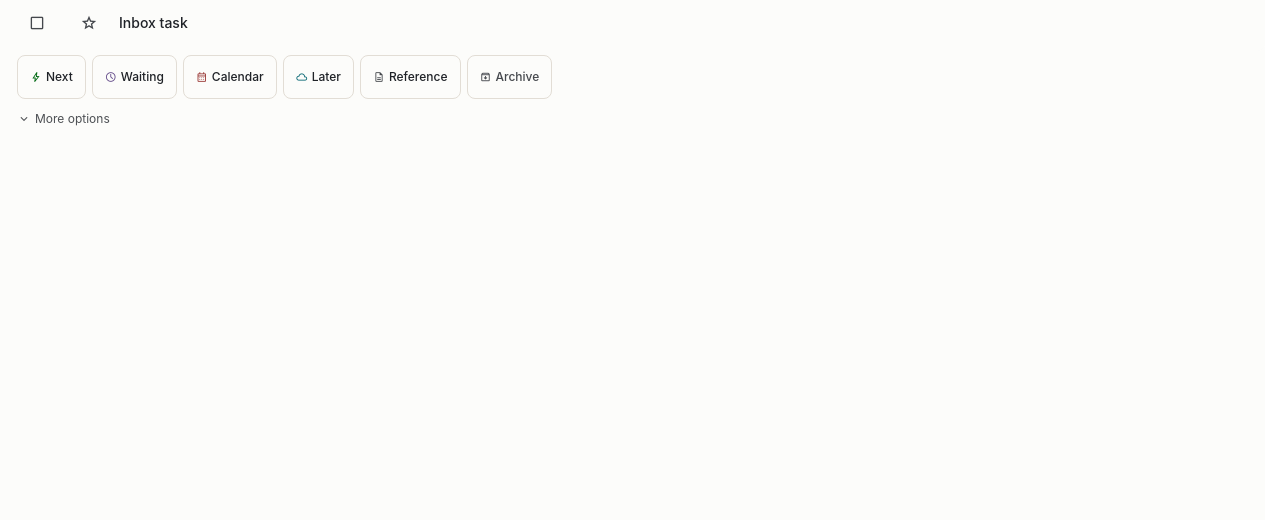
Test: ActionRow expanded › hides ItemEditor behind More options toggle for inbox items
Expected: the field labelled "Notes" is not shown
// Click "More options" to reveal editor
Step 1. Click the button "More options" → (63, 119), box 17,111 -> 110,127
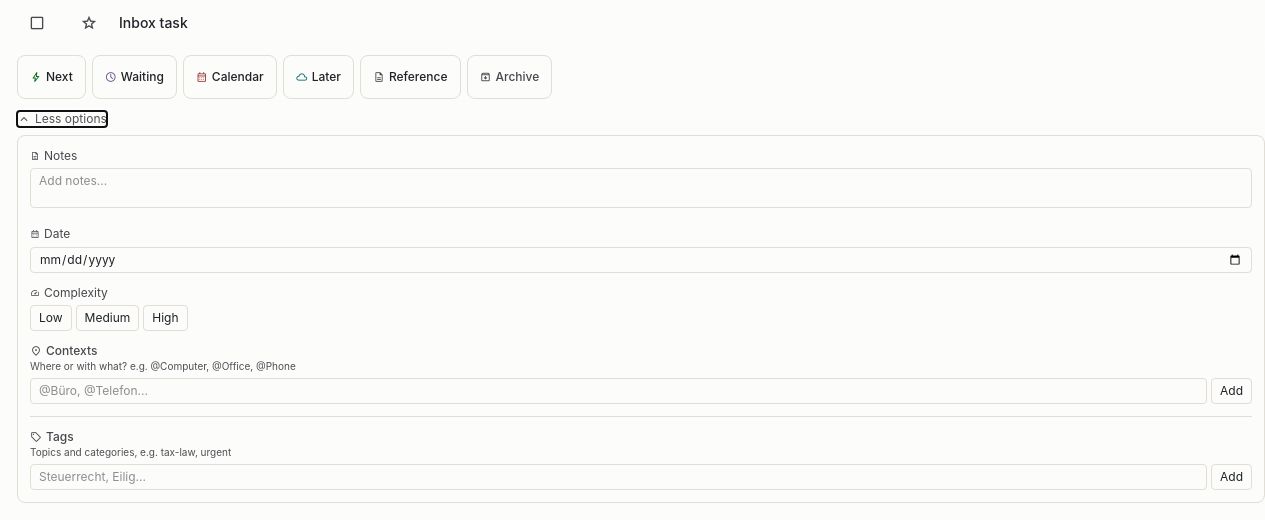
Now the text box labelled "notes" is shown, box 30,168 -> 1252,208
Now the button "Less options" is shown, box 17,111 -> 107,127
